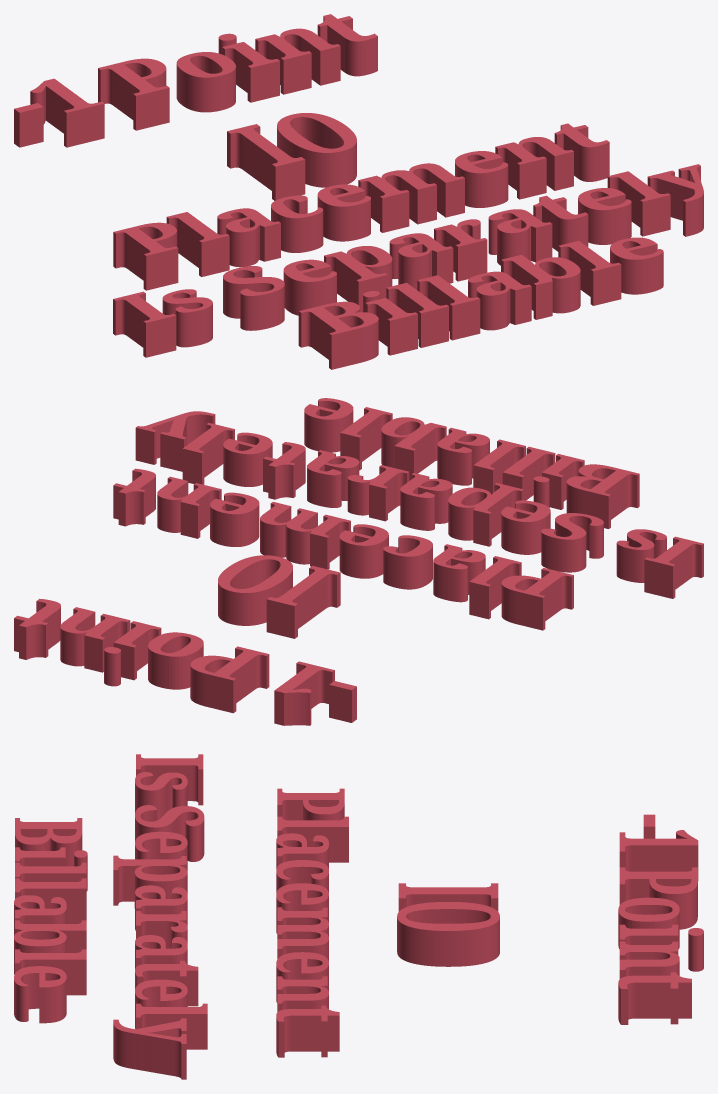
The model's file is neio.gltf.
The picture shows the model from 3 angles, top to bottom: view 1: azimuth 30°, elevation 25°; view 2: azimuth 150°, elevation 25°; view 3: azimuth 270°, elevation 25°; orthographic projection. The views are drawn at different scales.
Parts seen in each view (by area): view 1: Mesh_Mesh_head_geo001_lambert2SG001; view 2: Mesh_Mesh_head_geo001_lambert2SG001; view 3: Mesh_Mesh_head_geo001_lambert2SG001.
Boxes of the visible parts, bbox=[...] form: Mesh_Mesh_head_geo001_lambert2SG001: bbox=[14, 14, 703, 369]; Mesh_Mesh_head_geo001_lambert2SG001: bbox=[14, 398, 703, 725]; Mesh_Mesh_head_geo001_lambert2SG001: bbox=[14, 754, 703, 1079].
Bounding box in the file's own units: 174 × 10 × 175.
